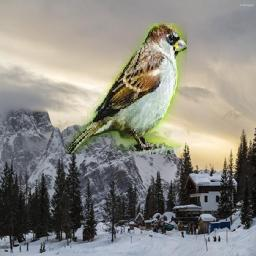Sparrow: (65, 24, 187, 155)
